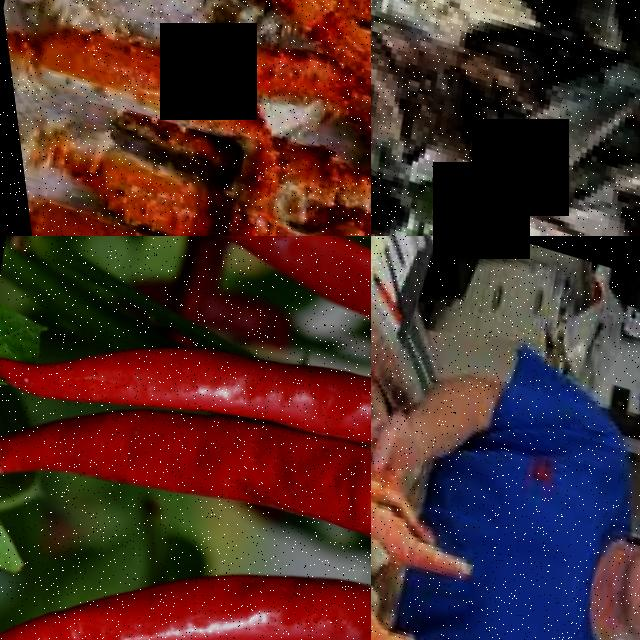chilli: (2, 355, 371, 568), (35, 272, 371, 474), (0, 465, 371, 640), (142, 236, 371, 420)
crab: (0, 0, 371, 236), (3, 82, 371, 236)
